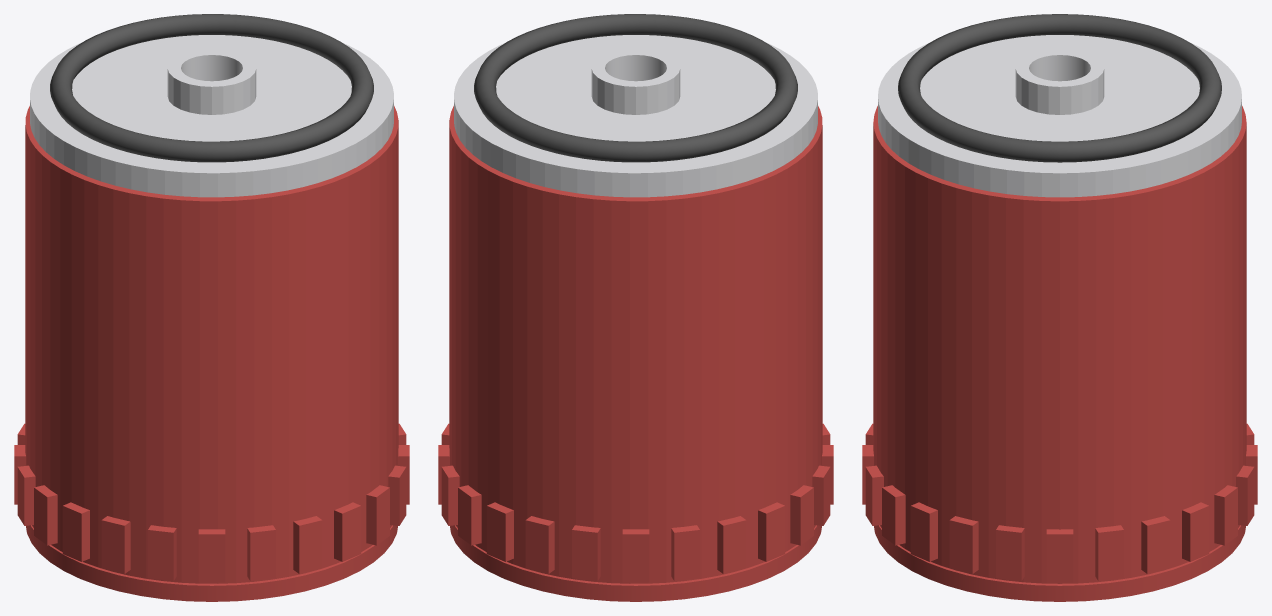
Rendered from filtro_aceite.glb.
3 views of the same model, side by side, from view 1: azimuth 30°, elevation 25°; view 2: azimuth 150°, elevation 25°; view 3: azimuth 270°, elevation 25° (orthographic).
Parts seen in each view (by area): view 1: carcasa, base, junta; view 2: carcasa, base, junta; view 3: carcasa, base, junta.
Part boxes in pixels (x1,y1,x2,y2): carcasa: (14,106,409,601); base: (30,35,393,197); junta: (50,14,373,162); carcasa: (438,106,833,601); base: (454,35,817,197); junta: (474,14,797,162); carcasa: (862,106,1257,601); base: (878,35,1241,197); junta: (898,14,1221,162).
Bounding box in the file's own units: 0.89 × 1.13 × 0.89.
